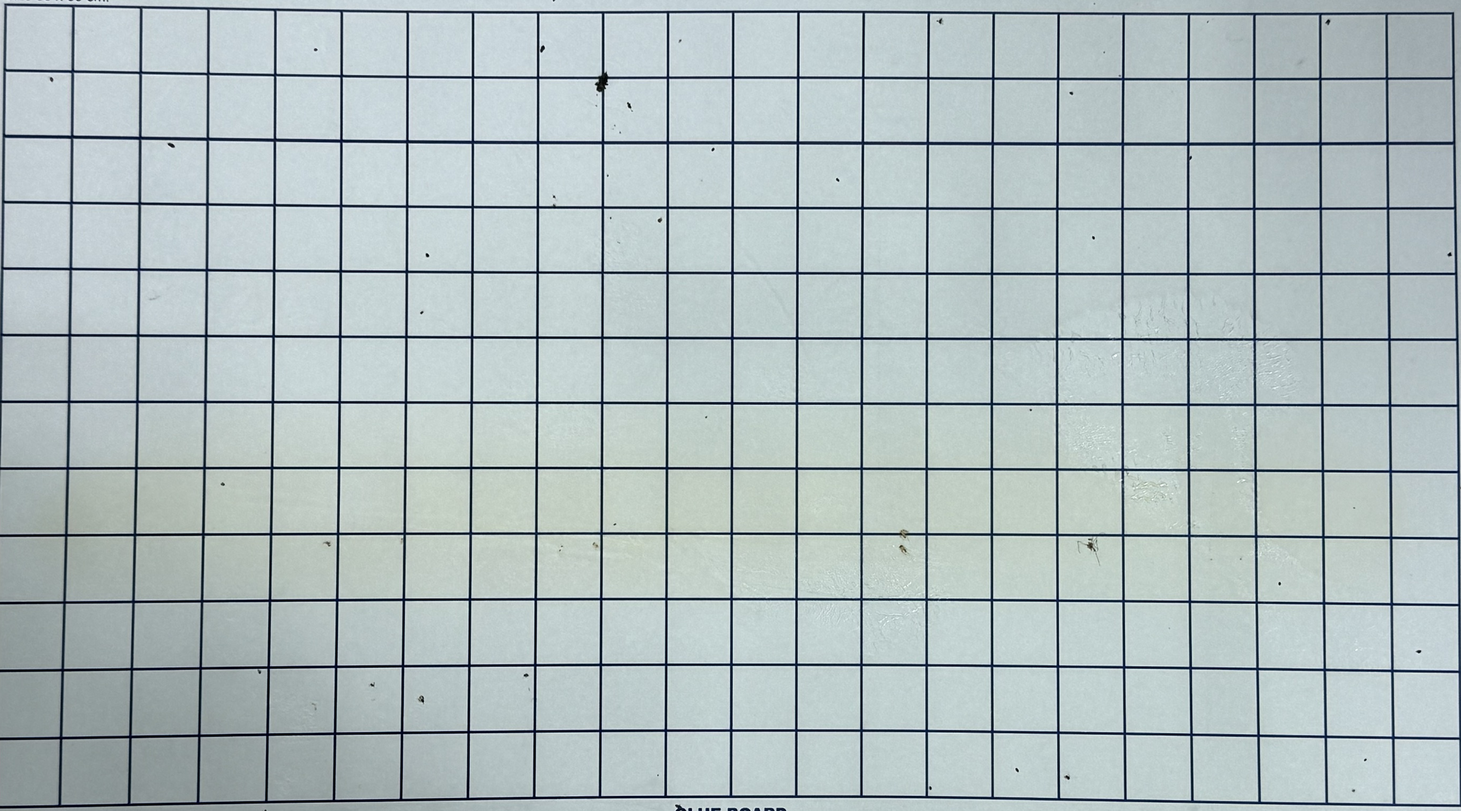test: (1079, 537, 1102, 557), (595, 72, 609, 92), (899, 528, 908, 539), (899, 545, 907, 553), (167, 142, 176, 148), (418, 696, 425, 703), (368, 681, 375, 688), (626, 101, 632, 109), (523, 672, 531, 678), (1014, 766, 1020, 774), (540, 45, 546, 52), (399, 538, 405, 545), (936, 18, 943, 24), (1063, 774, 1070, 780), (657, 215, 662, 223), (424, 252, 430, 258), (1324, 17, 1329, 24), (594, 542, 598, 550), (324, 541, 332, 545), (313, 47, 319, 52), (1067, 90, 1073, 95), (703, 415, 710, 419), (1117, 73, 1122, 78), (258, 668, 262, 674), (550, 203, 556, 207), (1089, 235, 1095, 239), (1448, 251, 1452, 257), (1416, 648, 1422, 652), (711, 148, 716, 152), (419, 310, 424, 314), (220, 481, 225, 485), (552, 195, 556, 200), (1278, 581, 1283, 585), (1363, 757, 1368, 761), (837, 178, 840, 184), (929, 784, 932, 790), (1351, 788, 1357, 791), (618, 131, 624, 134), (50, 77, 54, 81), (1188, 155, 1192, 159), (1205, 20, 1210, 23), (1104, 50, 1107, 55), (678, 39, 681, 43), (609, 216, 612, 220), (1029, 407, 1032, 411), (614, 523, 617, 526), (607, 174, 610, 177)
